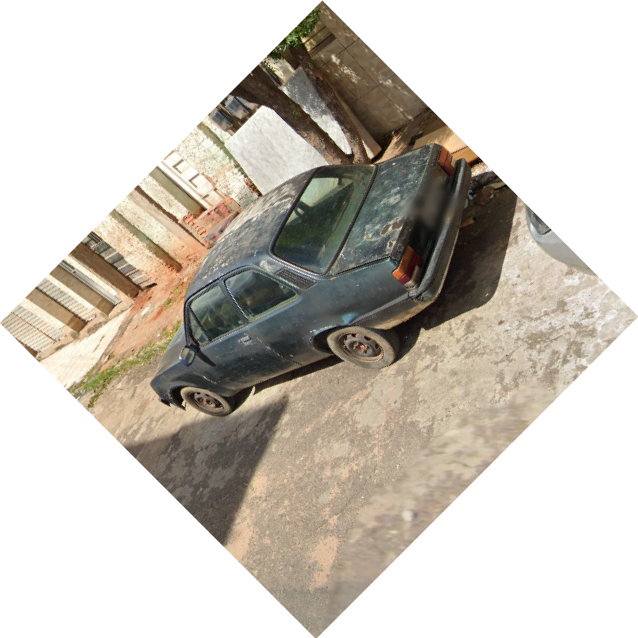car: (147, 141, 476, 431)
